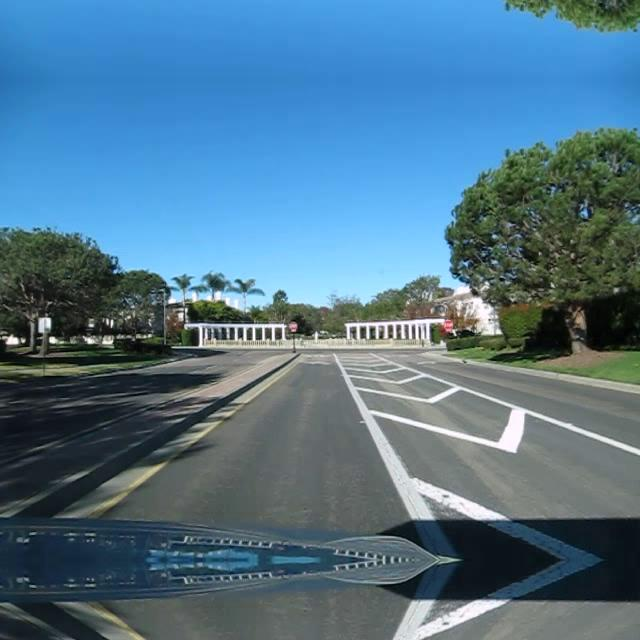stop: (443, 318, 453, 329), (288, 321, 298, 331)
